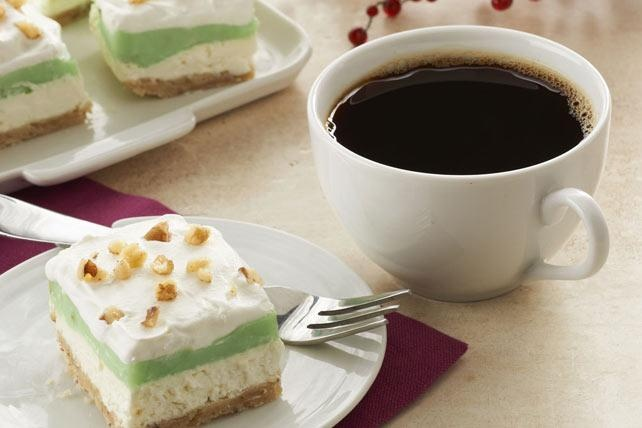background: (44, 142, 285, 286), (269, 33, 595, 116), (0, 0, 261, 100)
